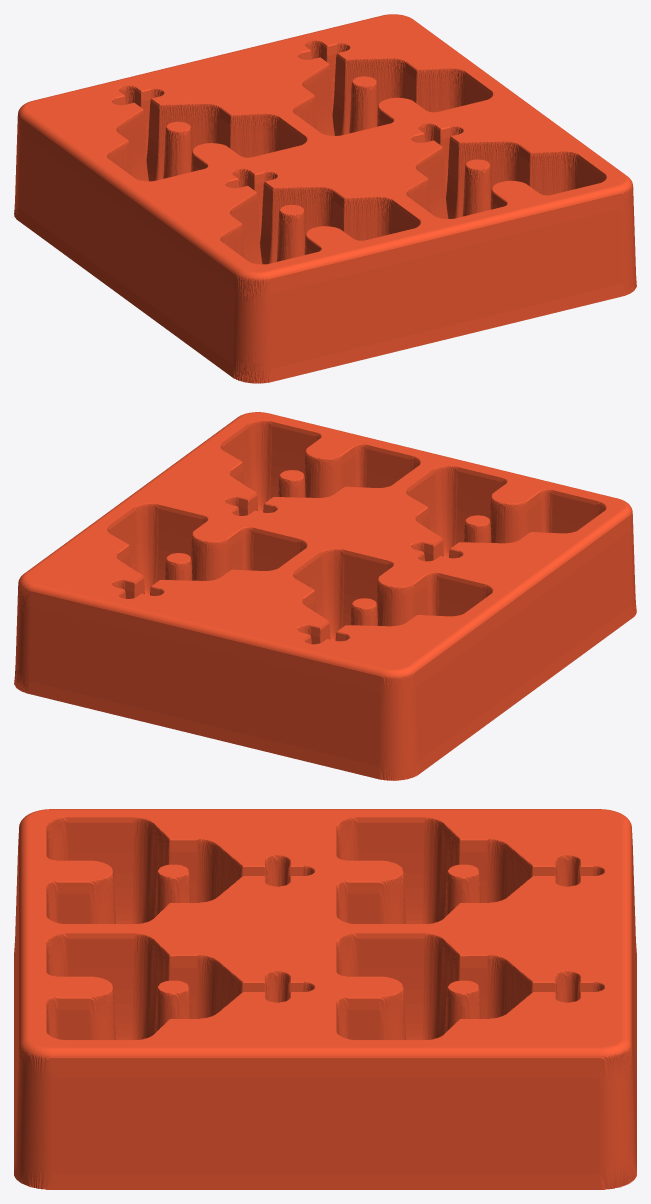
Rendered from mold.glb.
3 views of the same model, one above another, from view 1: azimuth 30°, elevation 25°; view 2: azimuth 150°, elevation 25°; view 3: azimuth 270°, elevation 25° (orthographic). The views are drawn at different scales.
Visible parts, largest first — view 1: geometry_0; view 2: geometry_0; view 3: geometry_0.
Boxes of the visible parts, x1,y1,x2,y2 form: geometry_0: (14, 14, 636, 383); geometry_0: (14, 412, 636, 780); geometry_0: (14, 809, 636, 1189).
Size of the model in its own units: 0.1418 by 0.036 by 0.1493.
